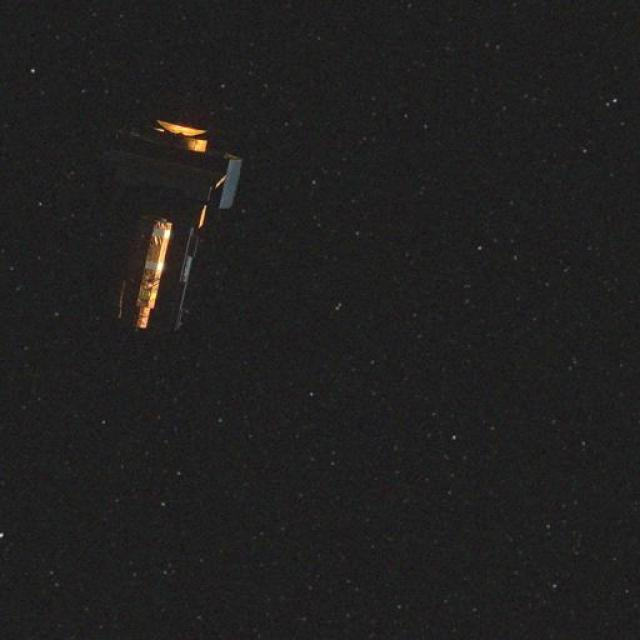soho: (81, 100, 260, 346)
